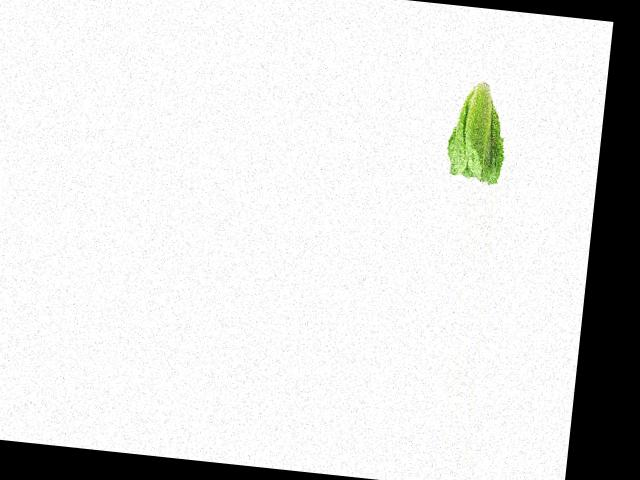lettuce: (440, 77, 516, 187)
